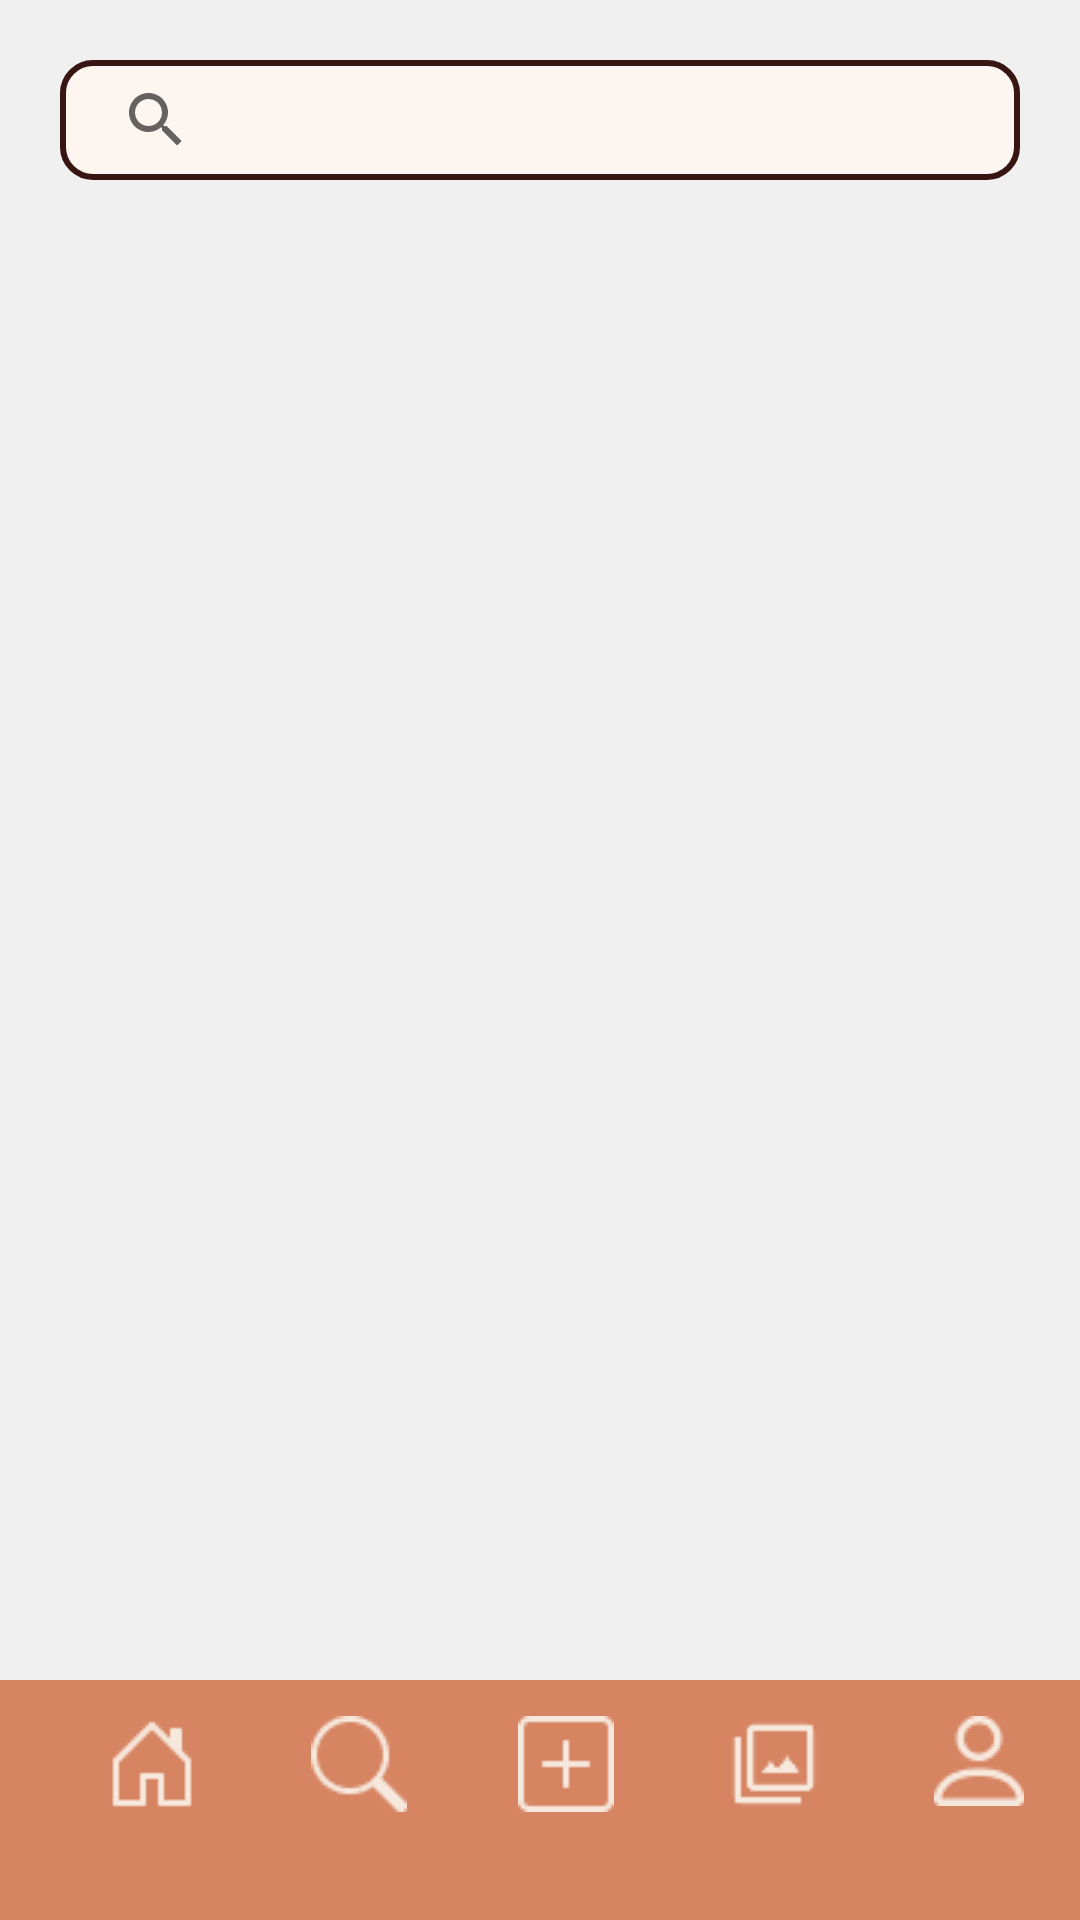

Icons on this 1080px×1920px Android screen, each with its box as (x1, y1, x2, y2):
house: (112, 1721, 192, 1807)
person: (934, 1716, 1024, 1806)
plus square: (518, 1716, 614, 1812)
search: (311, 1716, 407, 1812)
